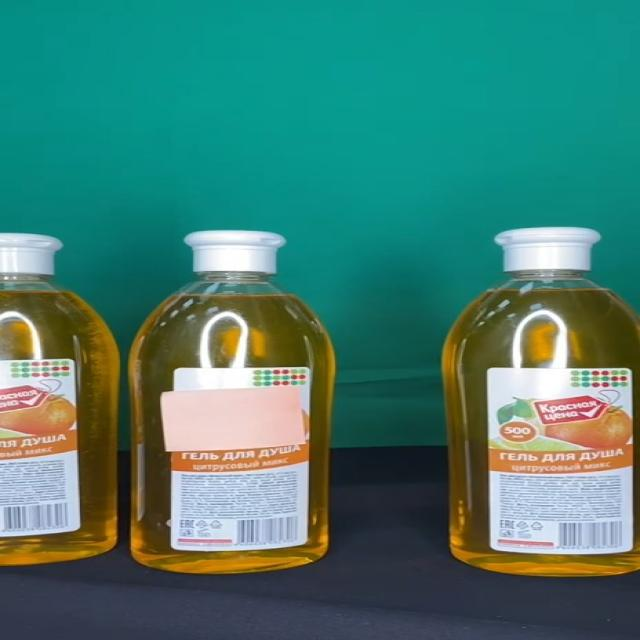Bottle: (128, 231, 336, 574), (445, 227, 640, 577)
Cap: (494, 227, 599, 271), (185, 230, 287, 274)
